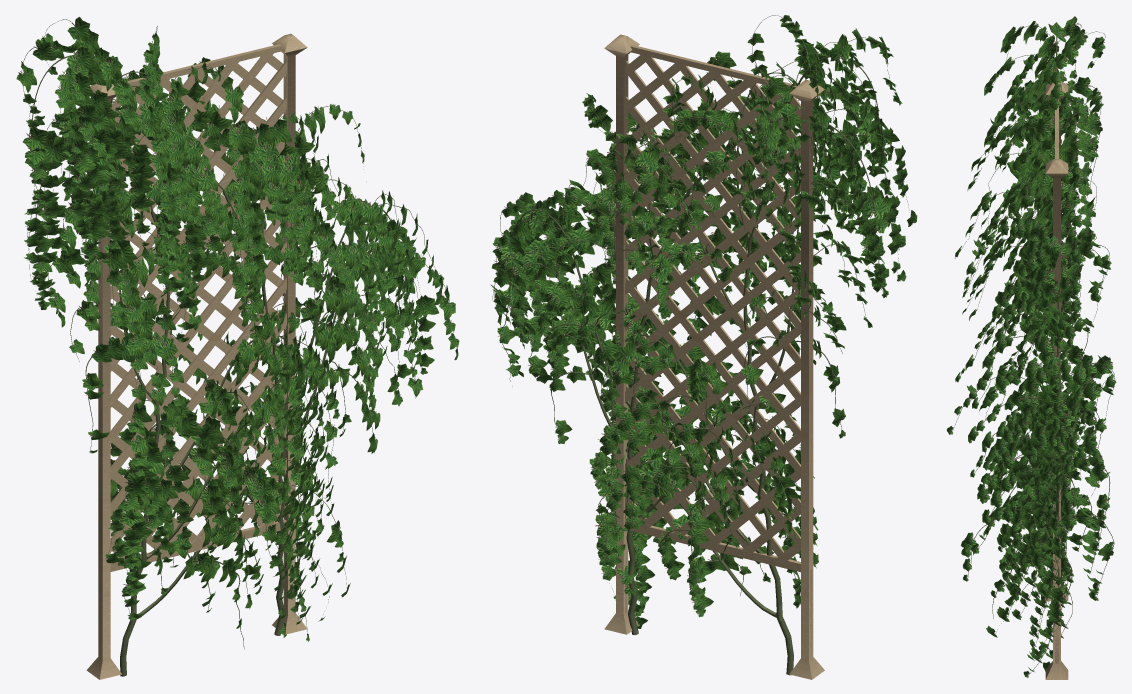
The model's file is climber.glb.
3 renders of one model, left to right at view 1: azimuth 30°, elevation 25°; view 2: azimuth 150°, elevation 25°; view 3: azimuth 270°, elevation 25°, orthographic. The views are drawn at different scales.
Parts seen in each view (by area): view 1: Ivy_Ivy_Leaf_0, Plane.033_Wood_0, Ivy_Stem_0; view 2: Ivy_Ivy_Leaf_0, Plane.033_Wood_0, Ivy_Stem_0; view 3: Ivy_Ivy_Leaf_0, Ivy_Stem_0, Plane.033_Wood_0.
Part boxes in pixels (bbox=[...]): Ivy_Ivy_Leaf_0: bbox=[16, 16, 459, 641]; Plane.033_Wood_0: bbox=[86, 33, 307, 679]; Ivy_Stem_0: bbox=[21, 19, 456, 676]; Ivy_Ivy_Leaf_0: bbox=[491, 15, 917, 628]; Plane.033_Wood_0: bbox=[604, 34, 824, 679]; Ivy_Stem_0: bbox=[492, 15, 911, 675]; Ivy_Ivy_Leaf_0: bbox=[947, 16, 1116, 677]; Ivy_Stem_0: bbox=[953, 24, 1115, 674]; Plane.033_Wood_0: bbox=[1045, 81, 1068, 679].
Size of the model in its own units: 1.39 by 2.06 by 0.5622.
3 materials, 3 textured.
